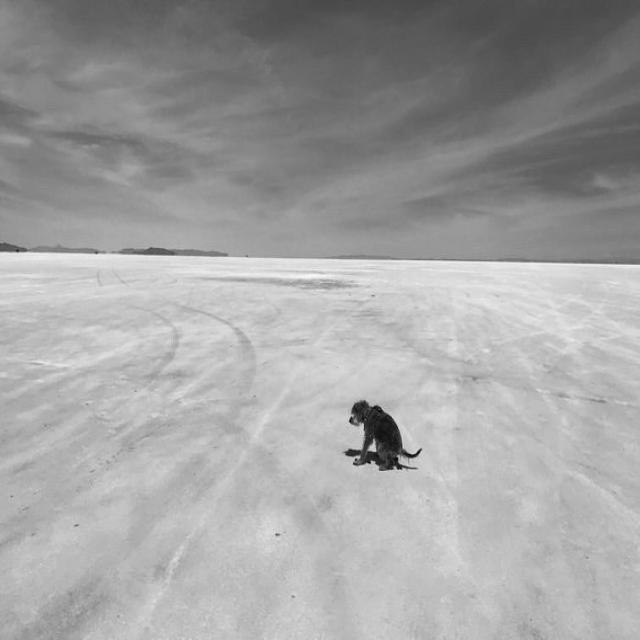squatting: (348, 396, 425, 476)
